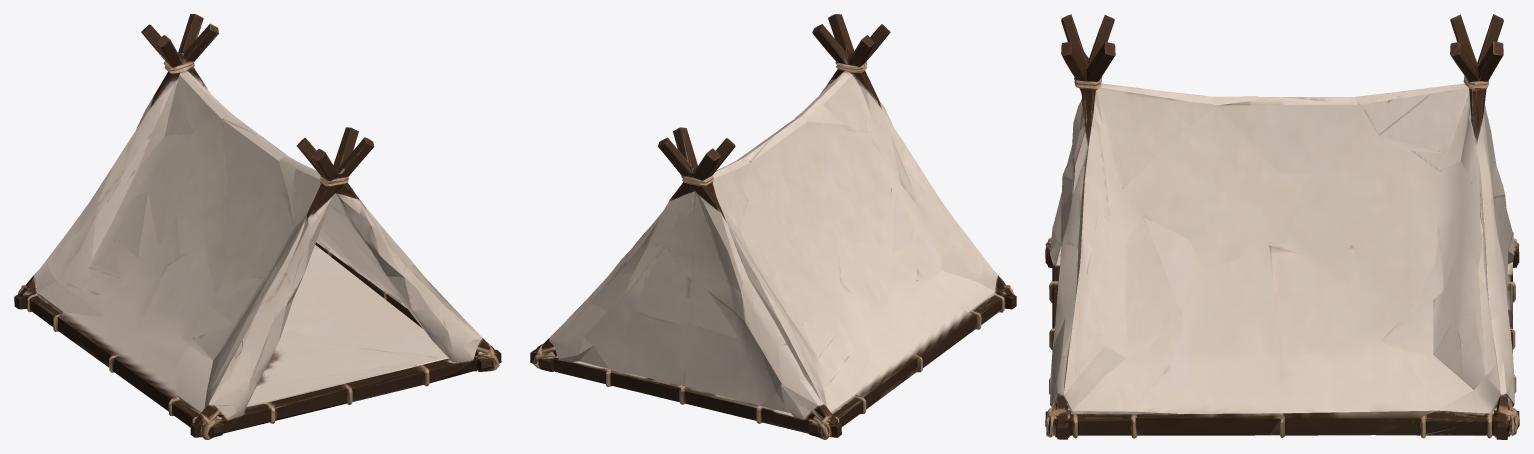
Rendered from tent.glb.
3 views of the same model, side by side, from view 1: azimuth 30°, elevation 25°; view 2: azimuth 150°, elevation 25°; view 3: azimuth 270°, elevation 25° (orthographic). The views are drawn at different scales.
Parts seen in each view (by area): view 1: Tent · canonical metres · front +Z; view 2: Tent · canonical metres · front +Z; view 3: Tent · canonical metres · front +Z.
Part boxes in pixels (<box>): Tent · canonical metres · front +Z: <box>14,14,501,439</box>; Tent · canonical metres · front +Z: <box>530,14,1016,439</box>; Tent · canonical metres · front +Z: <box>1045,14,1519,439</box>.
Size of the model in its own units: 1.88 by 1.5 by 2.
1 material, 1 textured.
